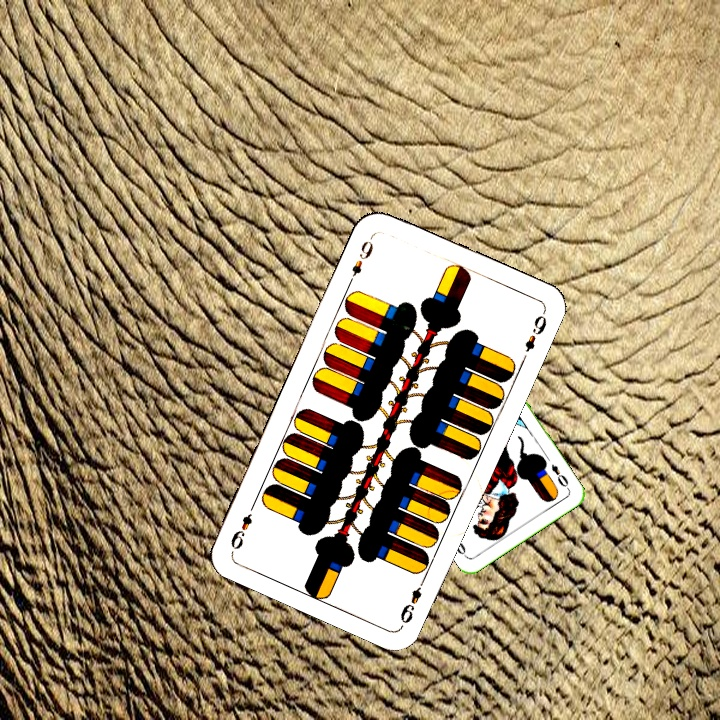E9: (396, 572, 429, 628), (344, 231, 376, 287)
EO: (547, 459, 572, 492)
